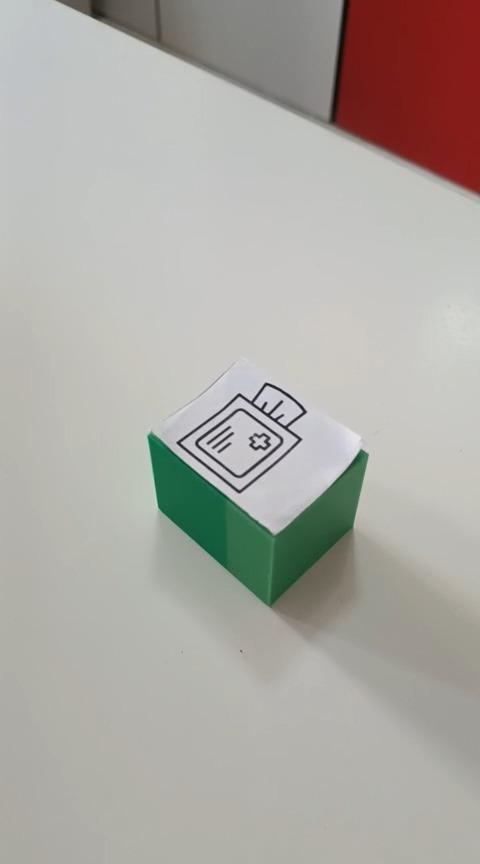Gauze: (146, 357, 369, 607)
